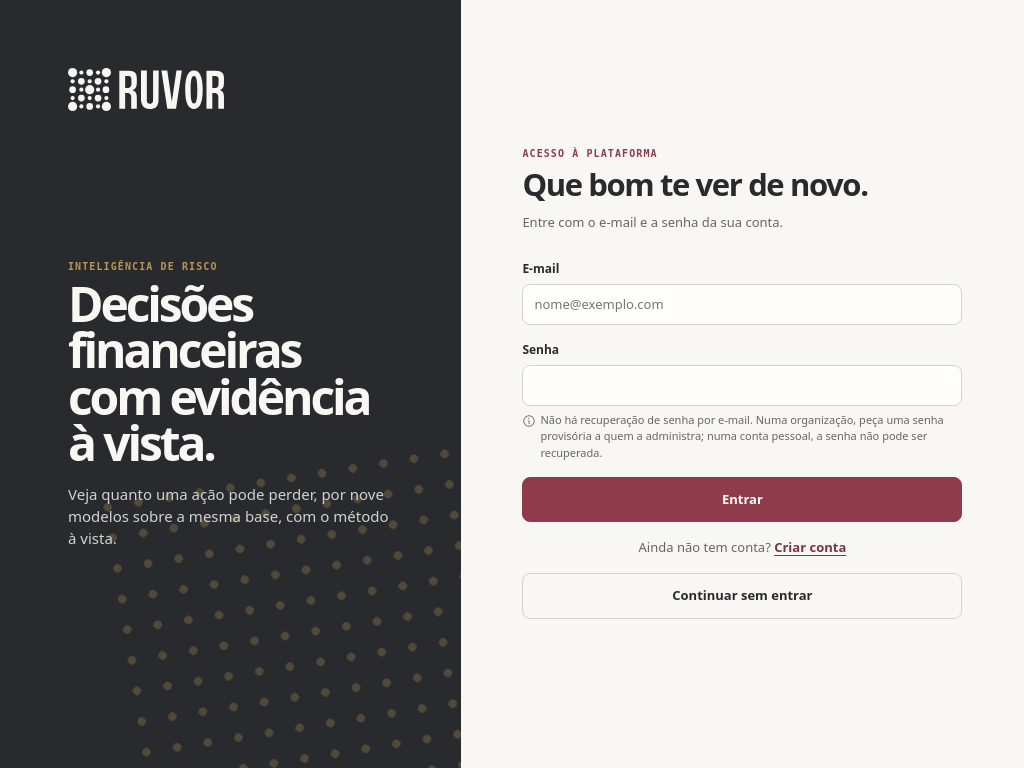
Test case: o pedido e os erros gerais (RF-06) › enviando: o botão diz Entrando…, desabilitado e aria-busy
Type "ana@exemplo.com" into the field labelled "E-mail" at coordinates (742, 304), box [522, 284, 962, 325]
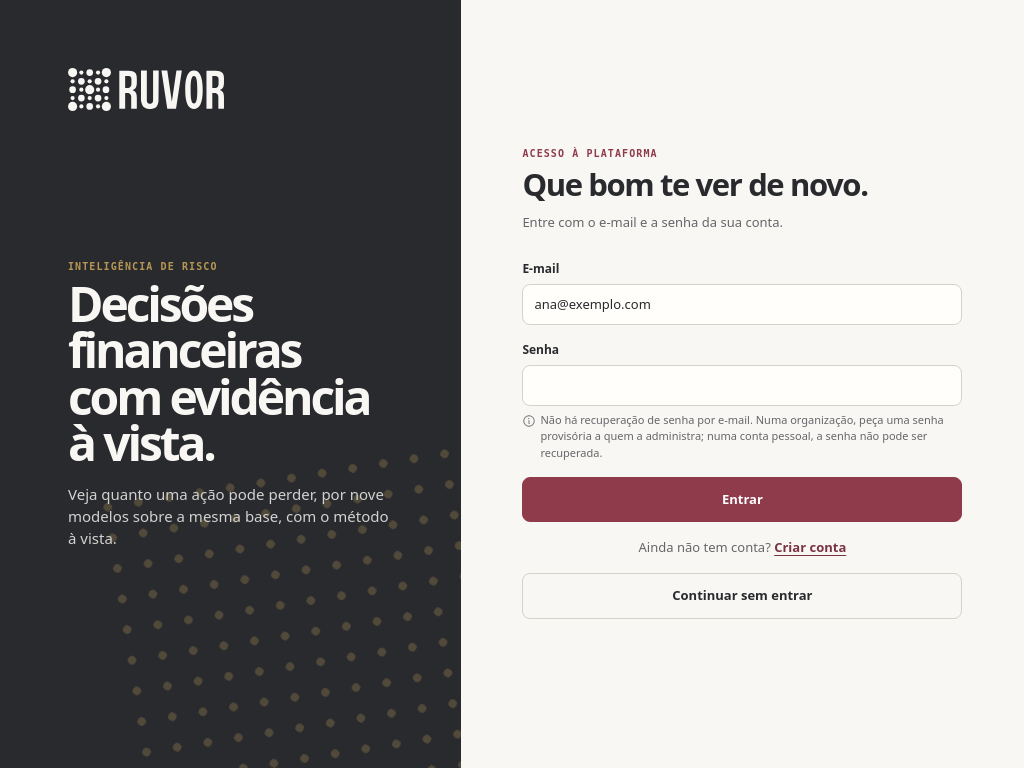
Type "segredo" into the password field labelled "Senha" at coordinates (742, 386), box [522, 365, 962, 406]
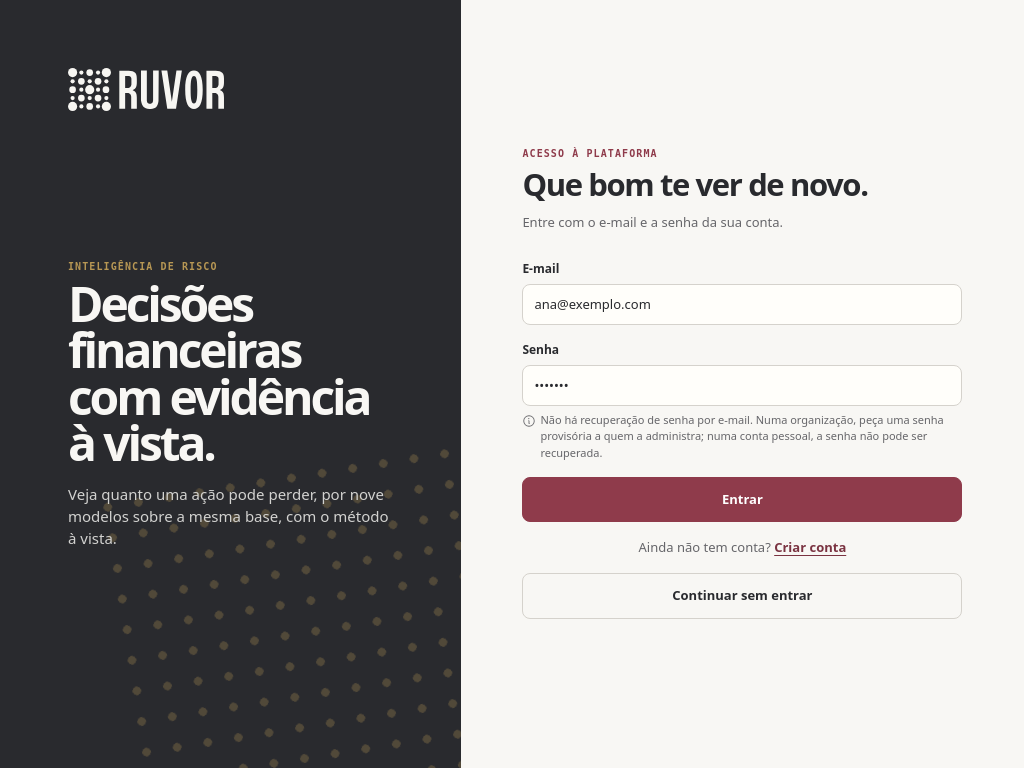
Click the button "Entrar" at coordinates (742, 500), box [522, 477, 962, 522]
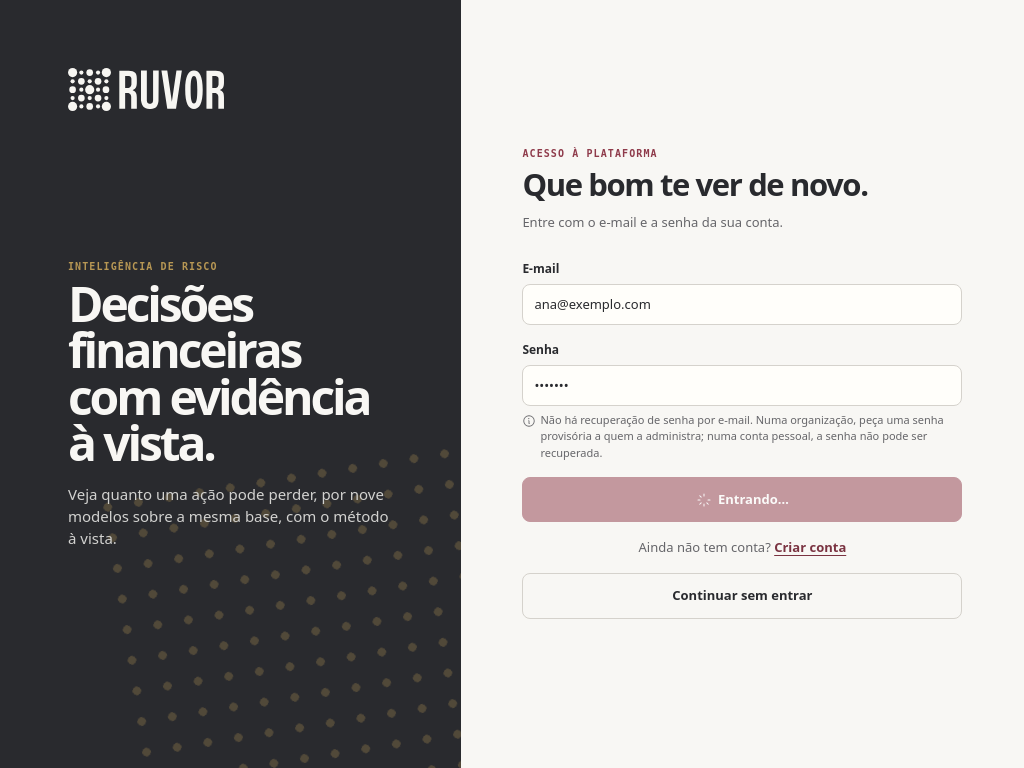
Now the button "Entrando…" is disabled, box [522, 477, 962, 522]
Now the button "Entrando…" is shown, box [522, 477, 962, 522]
